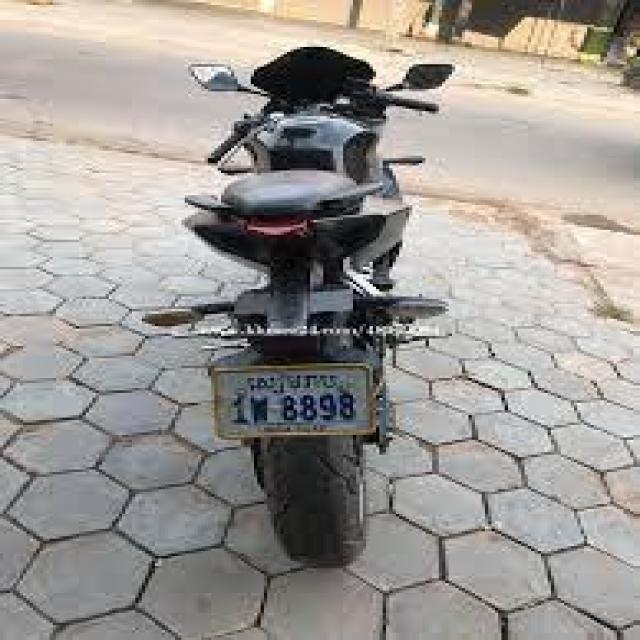Siem_Reap: (248, 368, 342, 394)
